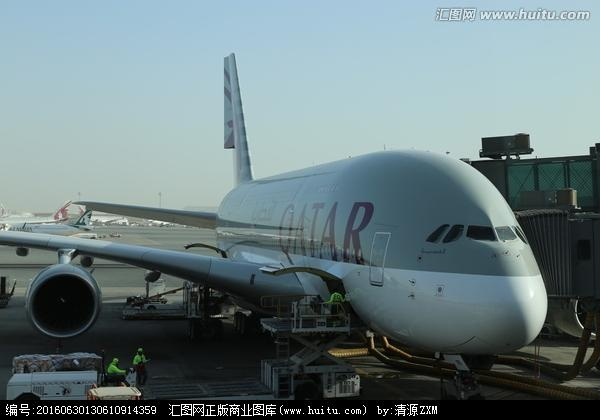airplane: (1, 52, 553, 382)
